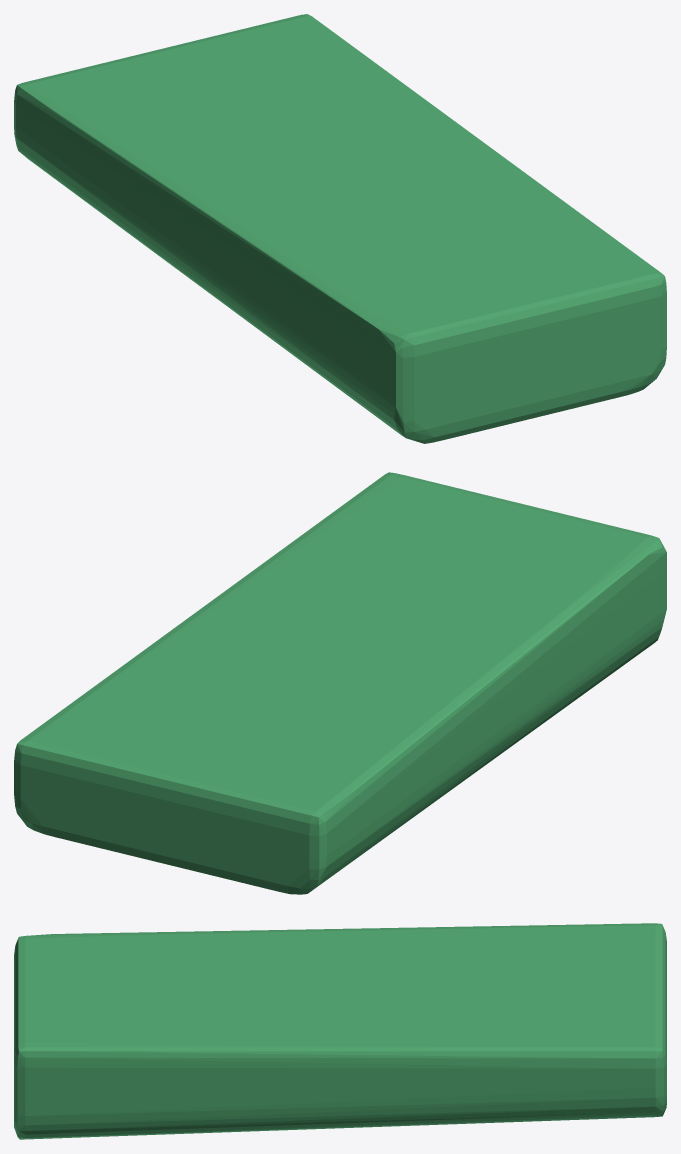
The model's file is left_knee_link_part_3.obj.
3 views of the same model, one above another, from view 1: azimuth 30°, elevation 25°; view 2: azimuth 150°, elevation 25°; view 3: azimuth 270°, elevation 25° (orthographic). The views are drawn at different scales.
Bounding box in the file's own units: 0.0561 × 0.0199 × 0.1176.
